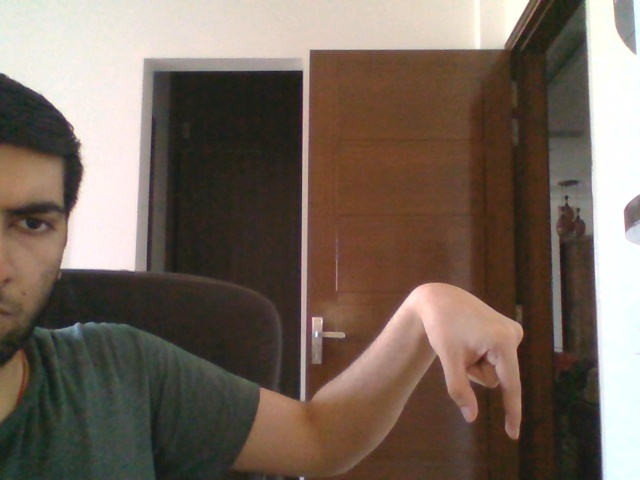LetterQ: (418, 280, 526, 442)
